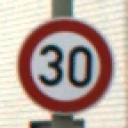speed_limit_30: (15, 17, 118, 114)
